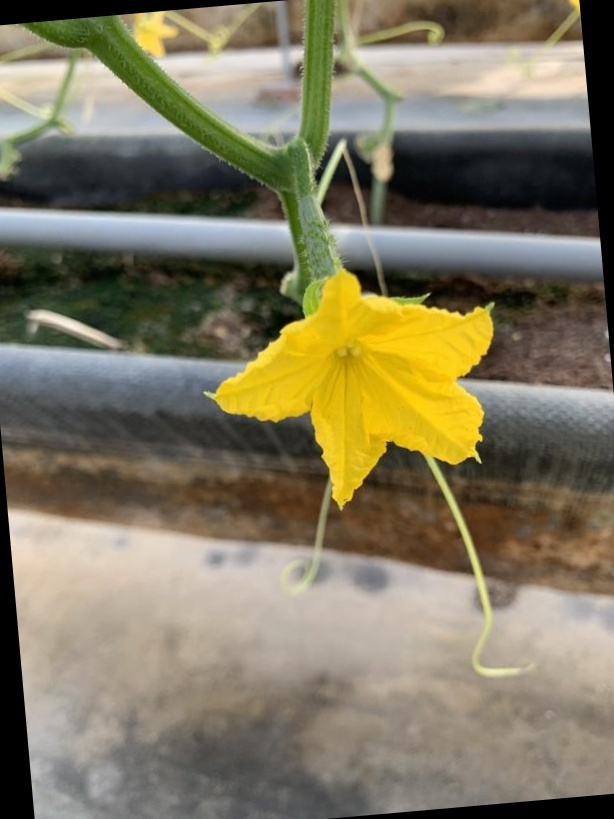flowering: (194, 176, 513, 520)
